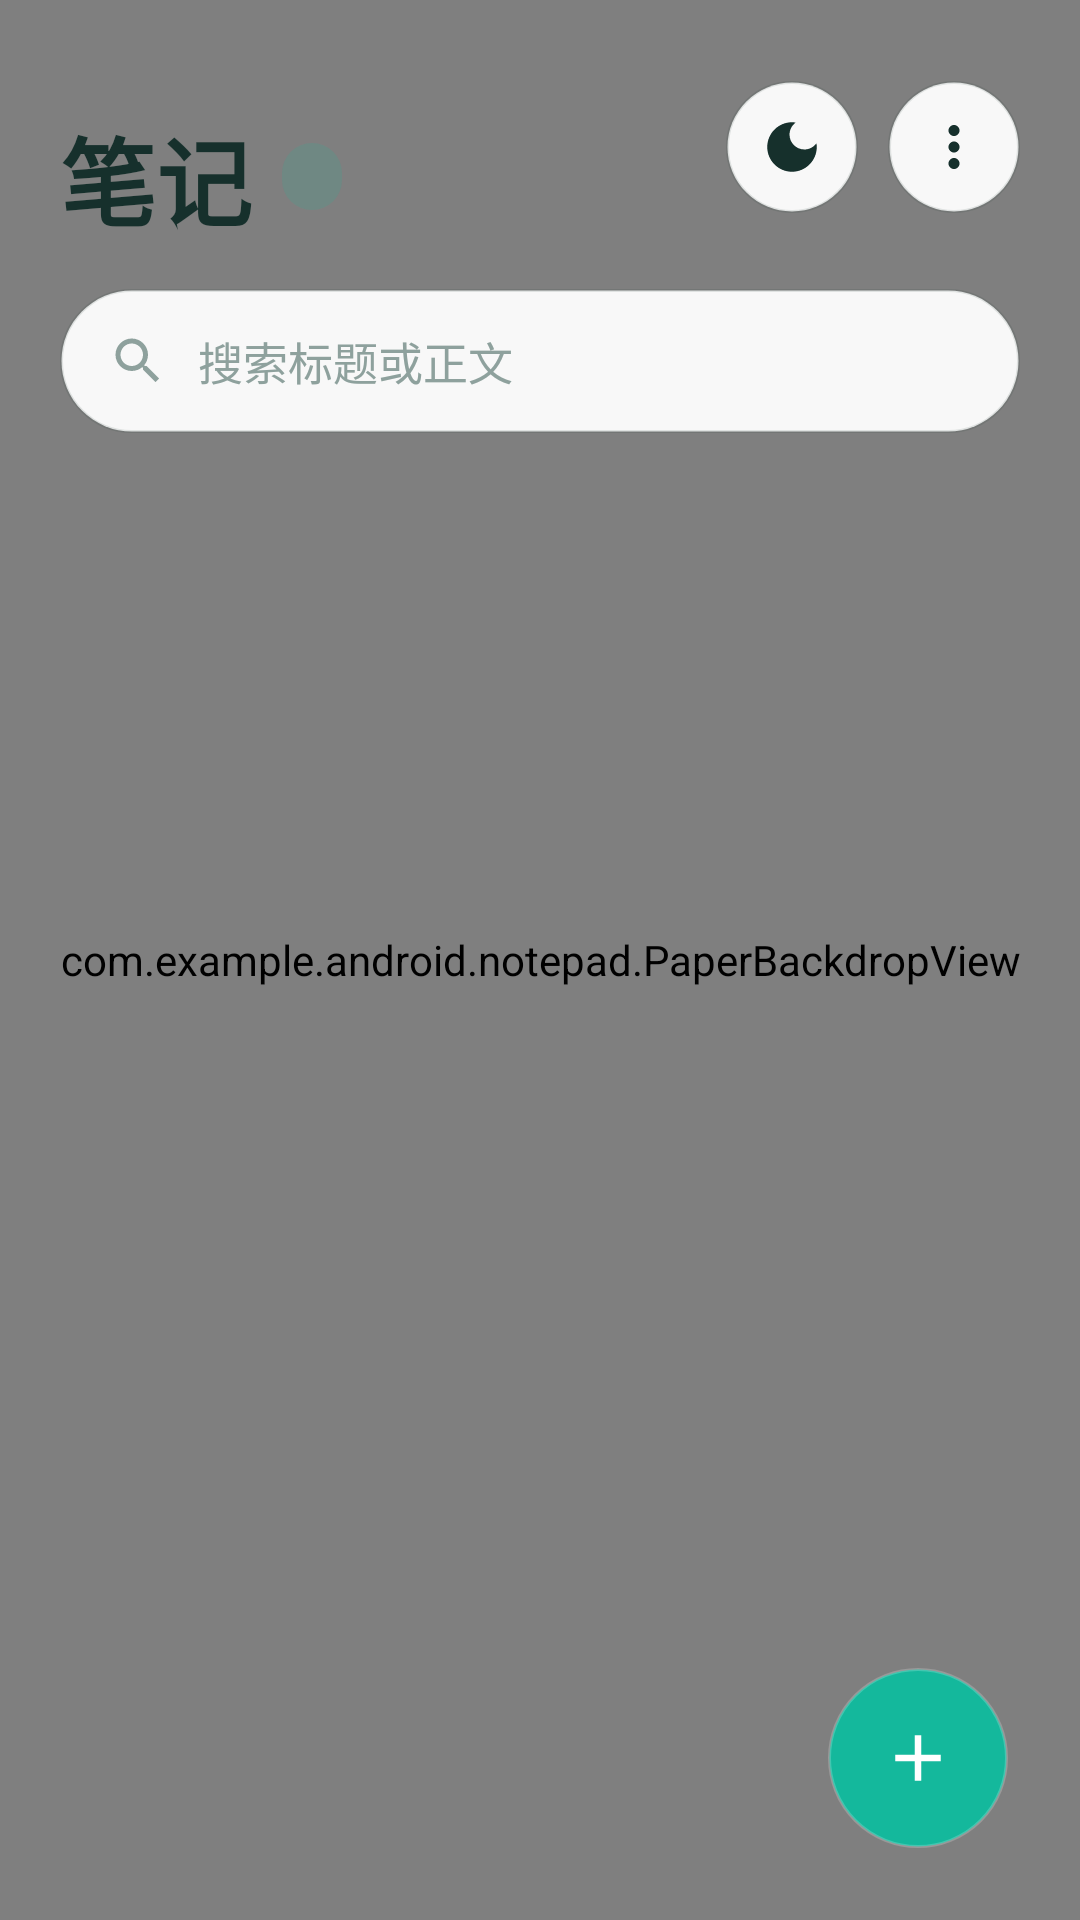

Locate icon controls on the screen. Image size 1080px x 1920px, boxes as (x1, y1, x2, y2).
moon: (727, 82, 857, 212)
search: (115, 338, 159, 382)
新建笔记: (828, 1668, 1007, 1848)
更多操作: (889, 82, 1019, 212)
